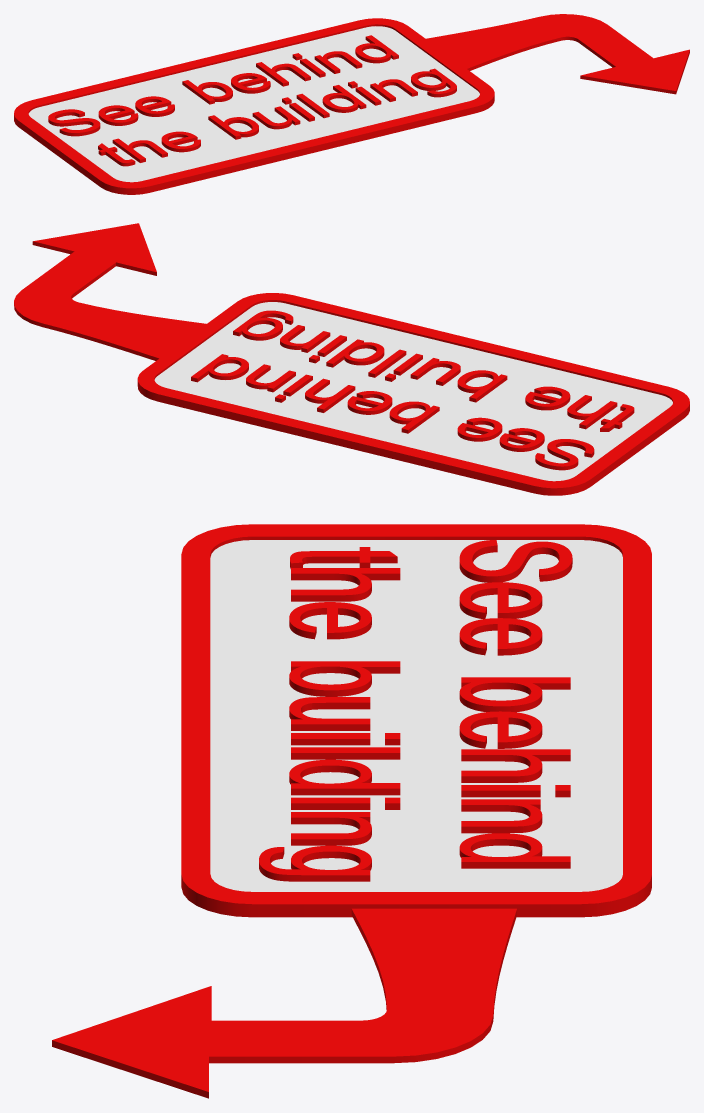
The model's file is AlleySign.fbx.
3 renders of one model, top to bottom at view 1: azimuth 30°, elevation 25°; view 2: azimuth 150°, elevation 25°; view 3: azimuth 270°, elevation 25°, orthographic. The views are drawn at different scales.
Visible parts, largest first — view 1: Rectangle002, SignEdge001, Text002, Line001; view 2: Rectangle002, SignEdge001, Text002, Line001; view 3: Rectangle002, Text002, SignEdge001, Line001.
Boxes of the visible parts, bbox=[...] form: Rectangle002: bbox=[28, 26, 479, 182]; SignEdge001: bbox=[14, 18, 494, 194]; Text002: bbox=[48, 35, 456, 166]; Line001: bbox=[426, 14, 689, 94]; Rectangle002: bbox=[154, 302, 672, 481]; SignEdge001: bbox=[137, 293, 689, 495]; Text002: bbox=[191, 310, 634, 470]; Line001: bbox=[14, 223, 206, 360]; Rectangle002: bbox=[210, 540, 622, 891]; Text002: bbox=[259, 540, 572, 881]; SignEdge001: bbox=[181, 524, 651, 917]; Line001: bbox=[52, 908, 516, 1098].
Bounding box in the file's own units: 91.88 × 1.3 × 41.3.
